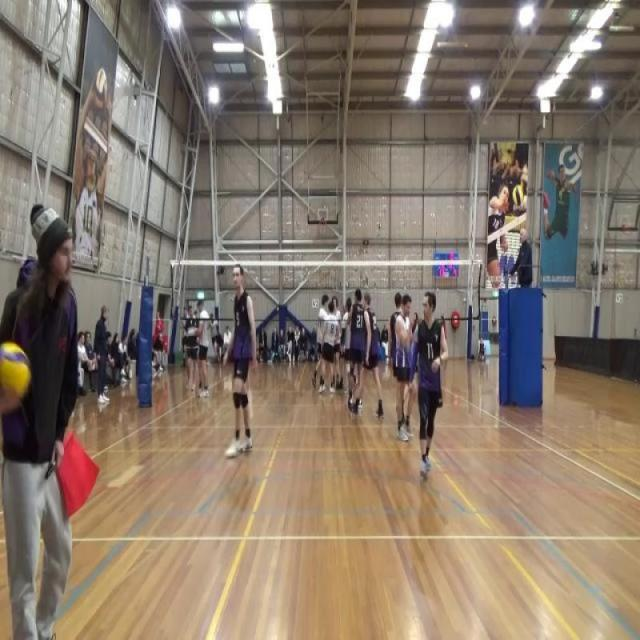volleyball: (0, 340, 36, 416), (95, 68, 108, 110), (512, 184, 525, 210)
